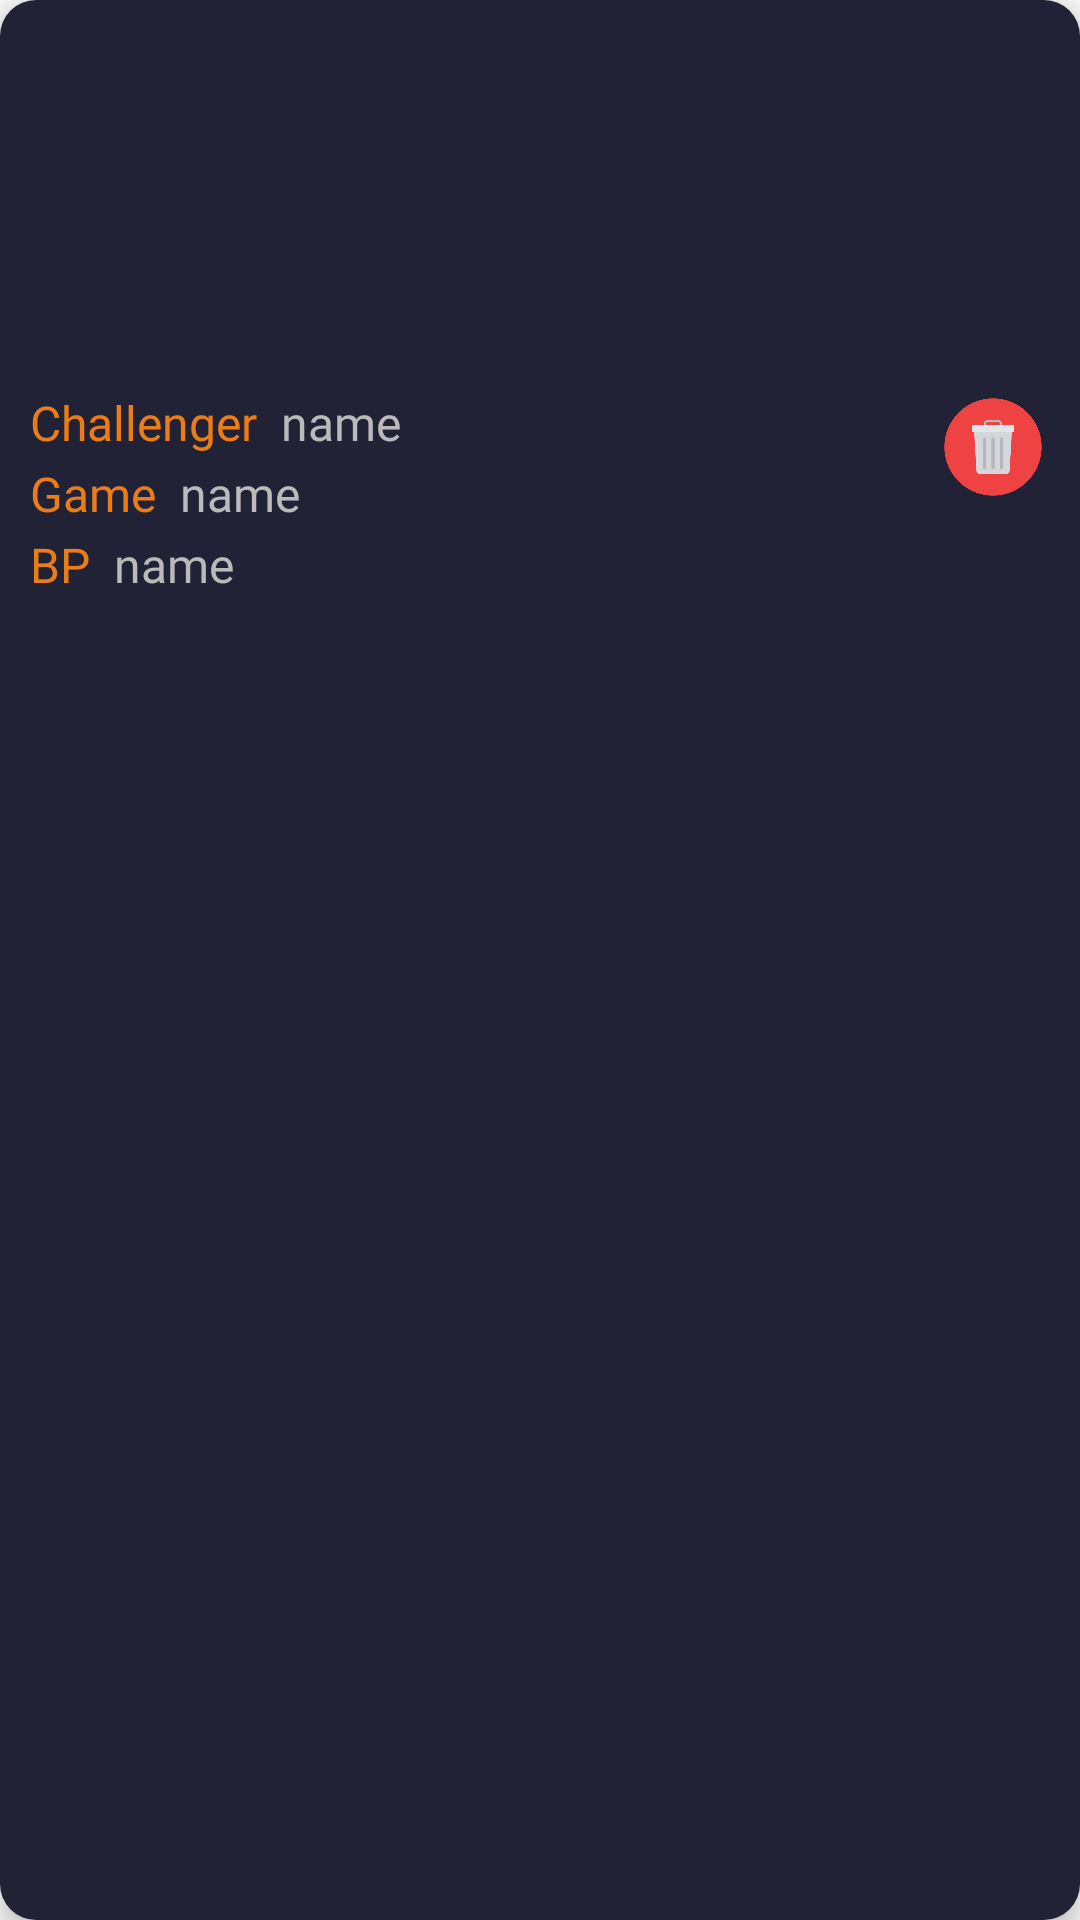

Named icons in this screenshot (1080 x 1920) and their centers, (x=x, y=y):
delete: (x=993, y=447)
